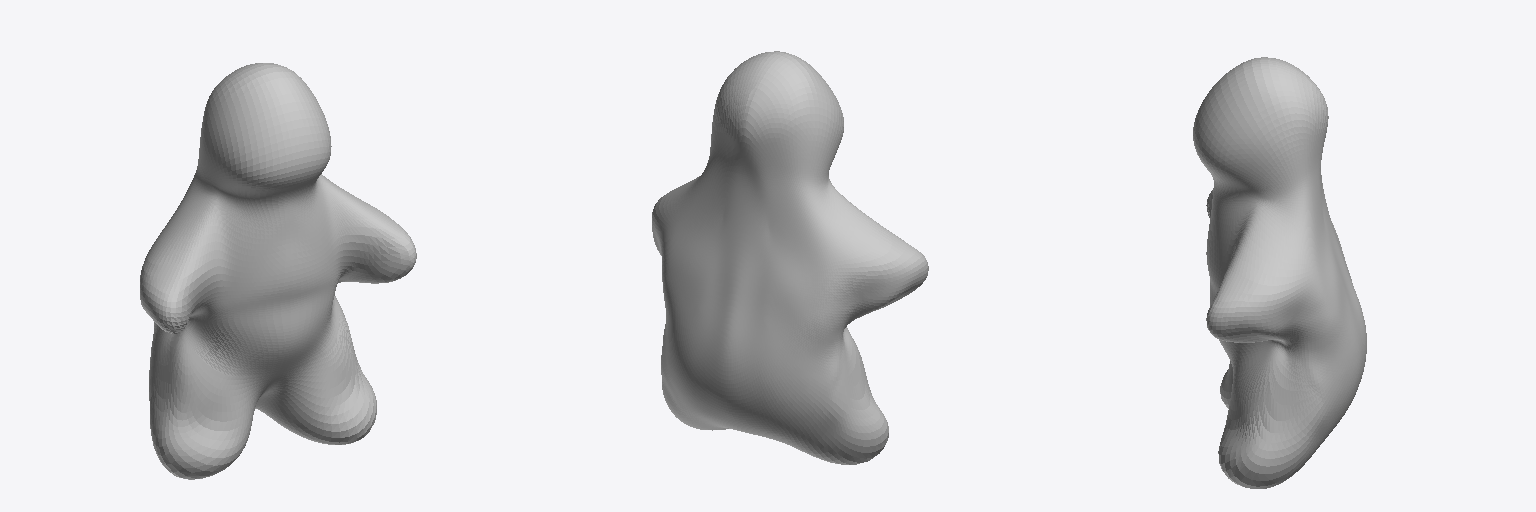
The model's file is beby.obj.
The picture shows the model from 3 angles: view 1: azimuth 30°, elevation 25°; view 2: azimuth 150°, elevation 25°; view 3: azimuth 270°, elevation 25°; orthographic projection.
Parts seen in each view (by area): view 1: Quad_Sphere; view 2: Quad_Sphere; view 3: Quad_Sphere.
Boxes of the visible parts, x1,y1,x2,y2 form: Quad_Sphere: [140, 63, 416, 479]; Quad_Sphere: [652, 51, 928, 464]; Quad_Sphere: [1193, 57, 1366, 488].
Bounding box in the file's own units: 2.62 × 3.73 × 1.52.